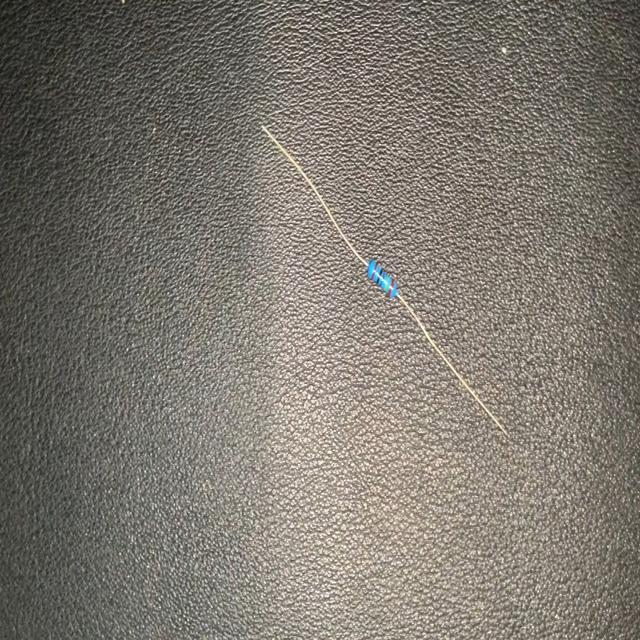resistor: (258, 116, 516, 449)
